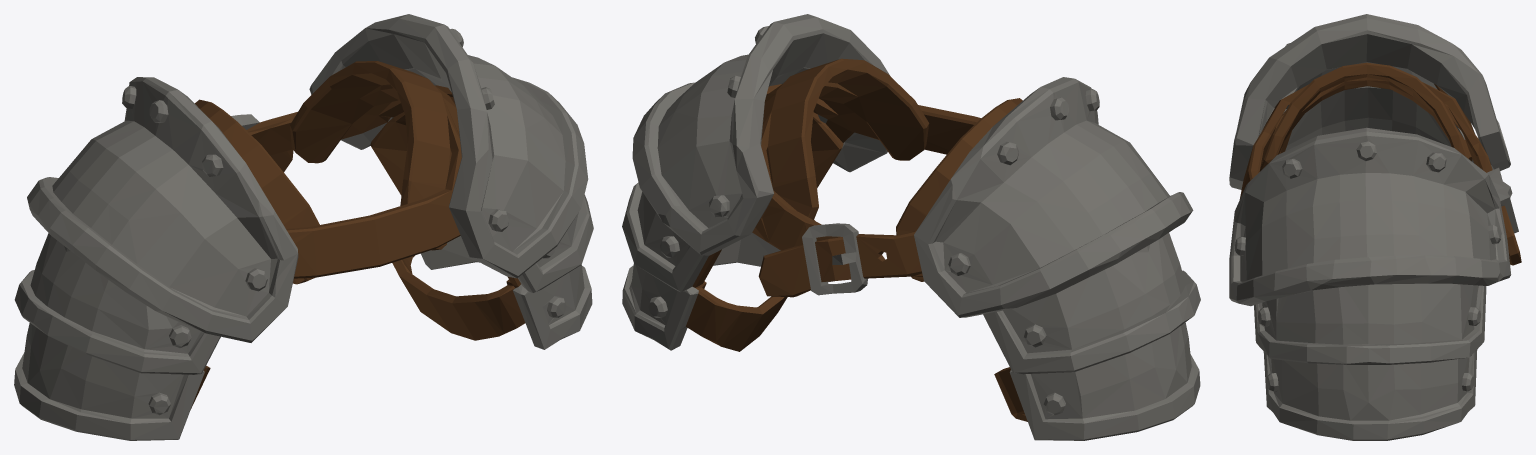
The model's file is SteelPauldrons.fbx.
3 renders of one model, left to right at view 1: azimuth 30°, elevation 25°; view 2: azimuth 150°, elevation 25°; view 3: azimuth 270°, elevation 25°, orthographic. The views are drawn at different scales.
Visible parts, largest first — view 1: SteelPauldrons; view 2: SteelPauldrons; view 3: SteelPauldrons.
Boxes of the visible parts, bbox=[...] form: SteelPauldrons: bbox=[14, 14, 593, 440]; SteelPauldrons: bbox=[622, 14, 1200, 440]; SteelPauldrons: bbox=[1229, 14, 1521, 440].
Bounding box in the file's own units: 0.7398 × 0.3917 × 0.4054.
